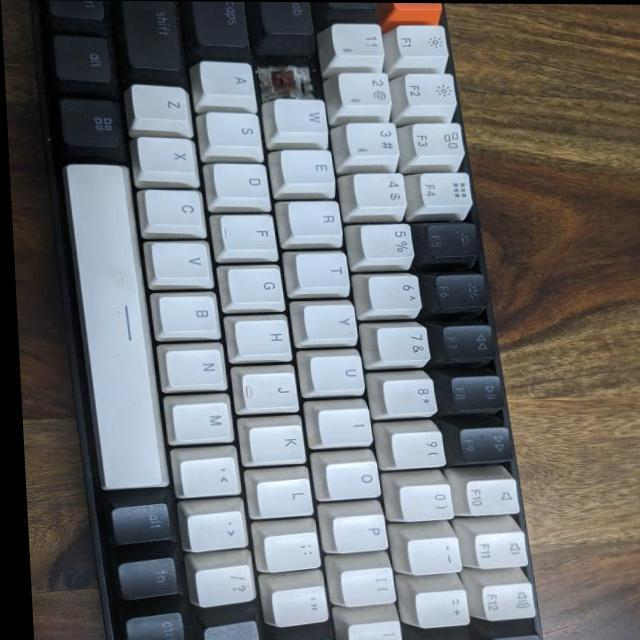key-switch: (258, 61, 317, 97)
